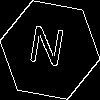N: (25, 25, 67, 76)
